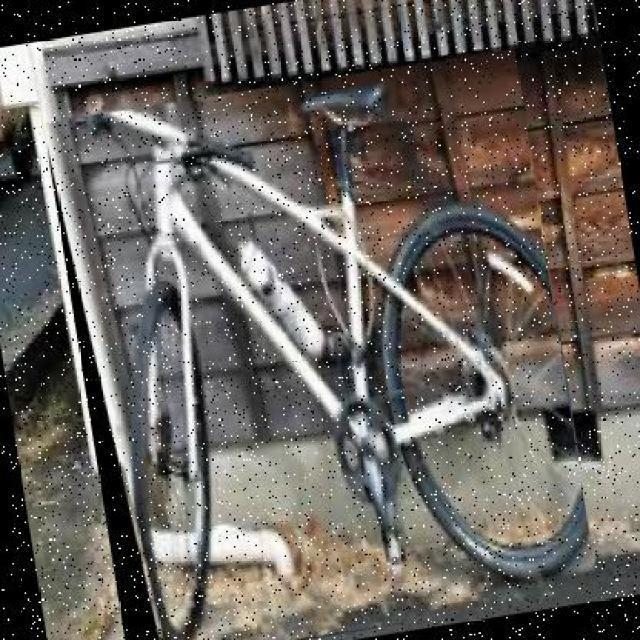bicycle: (43, 49, 602, 640)
